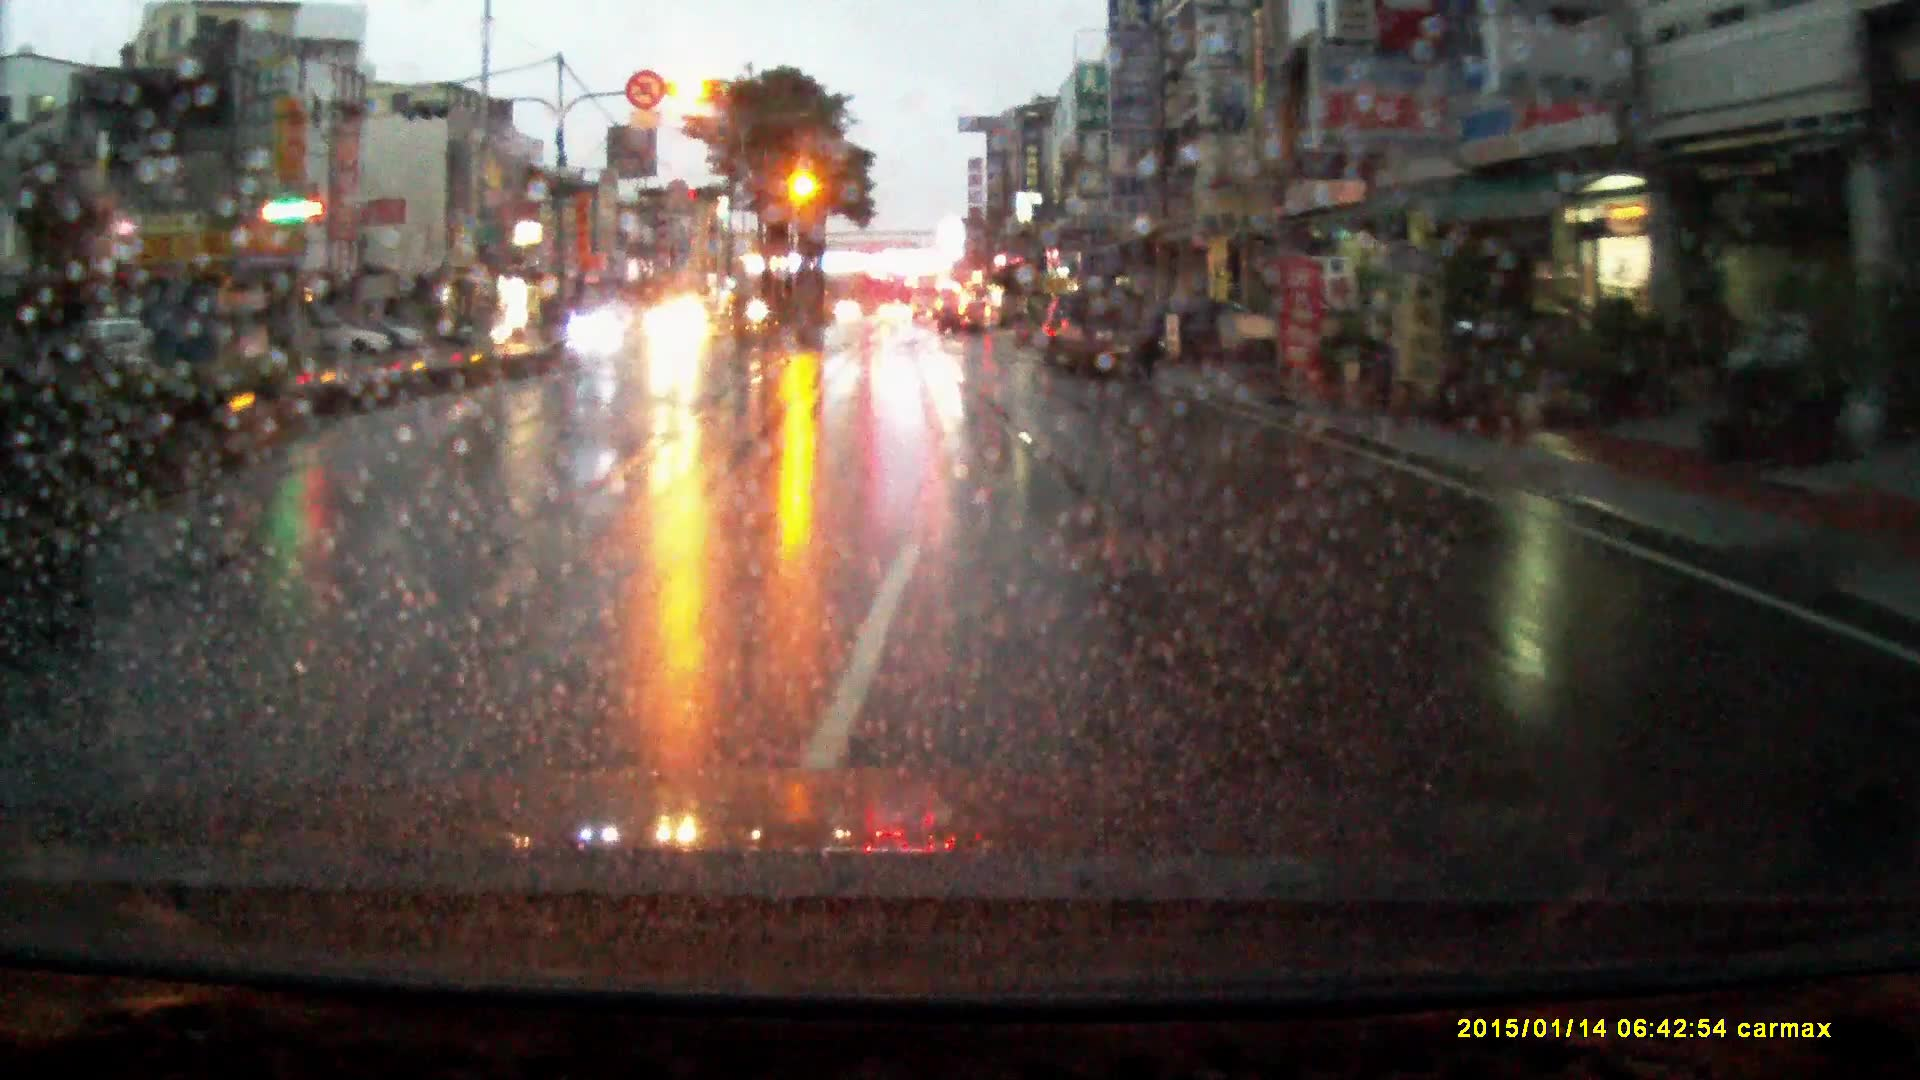vehicle: (1059, 280, 1164, 381), (644, 297, 716, 349), (297, 316, 386, 357), (1213, 311, 1288, 352), (570, 305, 632, 353), (938, 295, 994, 338), (1039, 291, 1071, 367), (455, 313, 514, 349), (371, 322, 427, 355), (911, 273, 944, 316), (878, 302, 913, 324)
